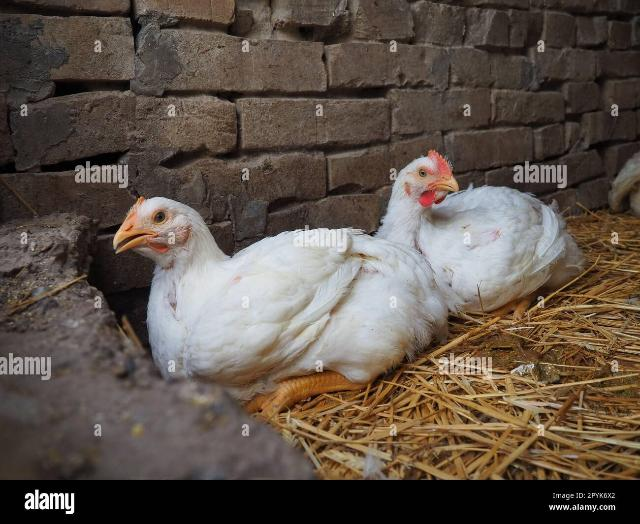Chicken: (110, 195, 450, 421), (374, 152, 586, 318)
